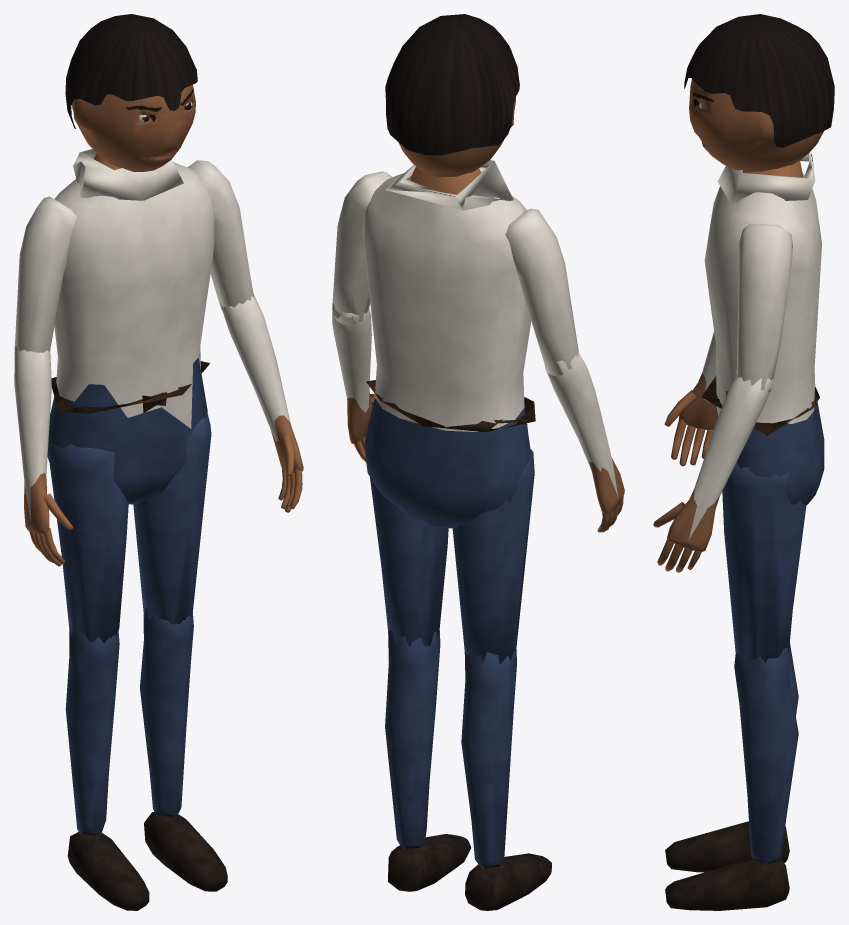
The model's file is persona_nino_a_lod.obj.
3 views of the same model, side by side, from view 1: azimuth 30°, elevation 25°; view 2: azimuth 150°, elevation 25°; view 3: azimuth 270°, elevation 25° (orthographic). The views are drawn at different scales.
Visible parts, largest first — view 1: Torso, PiernaIzq, PiernaDer, MusloDer, MusloIzq, Pelo, Cabeza, BrazoDer, AntebrazoDer, AntebrazoIzq, BrazoIzq, Cuello (+1 smaller); view 2: Torso, Pelo, PiernaDer, PiernaIzq, MusloDer, MusloIzq, BrazoDer, AntebrazoDer, BrazoIzq, AntebrazoIzq, Cuello, Cabeza (+1 smaller); view 3: Torso, PiernaIzq, Pelo, MusloIzq, BrazoIzq, AntebrazoIzq, Cabeza, PiernaDer, AntebrazoDer, Cuello, Cinturon.
Part boxes in pixels (box(x1,y1,x2,y2)): Torso: box(47, 153, 214, 504); PiernaIzq: box(140, 608, 227, 891); PiernaDer: box(65, 628, 149, 910); MusloDer: box(49, 444, 128, 643); MusloIzq: box(133, 413, 211, 624); Pelo: box(65, 14, 197, 128); Cabeza: box(72, 84, 195, 171); BrazoDer: box(14, 196, 76, 352); AntebrazoDer: box(14, 346, 73, 566); AntebrazoIzq: box(220, 294, 303, 512); BrazoIzq: box(187, 160, 253, 310); Cuello: box(73, 149, 183, 200); Torso: box(362, 167, 531, 528); Pelo: box(385, 14, 519, 155); PiernaDer: box(461, 649, 551, 910); PiernaIzq: box(385, 628, 471, 891); MusloDer: box(452, 449, 534, 664); MusloIzq: box(370, 477, 448, 646); BrazoDer: box(505, 208, 578, 375); AntebrazoDer: box(544, 352, 624, 532); BrazoIzq: box(332, 171, 391, 324); AntebrazoIzq: box(332, 302, 374, 462); Cuello: box(385, 160, 513, 210); Cabeza: box(398, 97, 515, 177); Torso: box(704, 160, 824, 505); PiernaIzq: box(665, 644, 798, 910); Pelo: box(684, 14, 834, 147); MusloIzq: box(722, 462, 806, 663); BrazoIzq: box(736, 224, 792, 392); AntebrazoIzq: box(653, 375, 773, 572); Cabeza: box(689, 79, 823, 171); PiernaDer: box(665, 643, 798, 872); AntebrazoDer: box(664, 331, 716, 466); Cuello: box(717, 152, 815, 203); Cinturon: box(702, 375, 819, 435).
Size of the model in its own units: 0.3841 by 1.2 by 0.2272.
12 materials, 12 textured.
